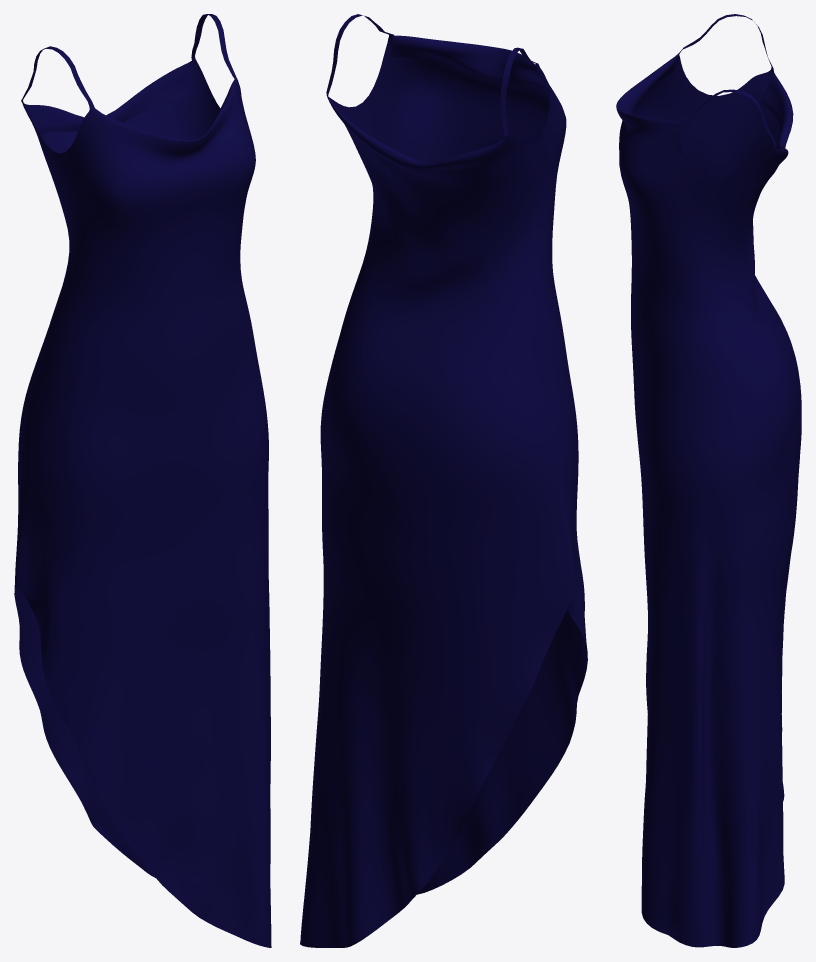
Rendered from asset.glb.
3 renders of one model, left to right at view 1: azimuth 30°, elevation 25°; view 2: azimuth 150°, elevation 25°; view 3: azimuth 270°, elevation 25°, orthographic. The views are drawn at different scales.
Parts seen in each view (by area): view 1: Group41793, Group46715, Group30561; view 2: Group41793, Group8054; view 3: Group41793, Group46715.
Part boxes in pixels (<box>): Group41793: <box>14,56,271,947</box>; Group46715: <box>29,72,192,134</box>; Group30561: <box>191,14,234,75</box>; Group41793: <box>300,34,587,947</box>; Group8054: <box>500,47,537,135</box>; Group41793: <box>616,49,801,947</box>; Group46715: <box>761,84,784,149</box>.
Size of the model in its own units: 0.8523 by 2.98 by 0.5899.
